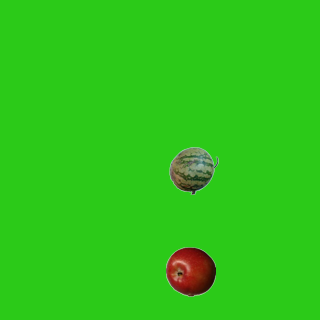Apple Braeburn: (165, 246, 215, 296)
Watermelon: (168, 145, 218, 195)
